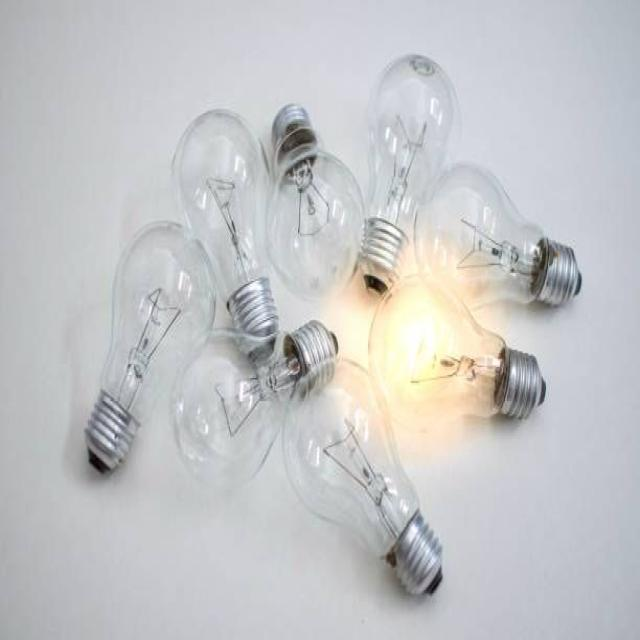electronic: (83, 52, 582, 598), (281, 356, 444, 598), (82, 218, 216, 475), (366, 272, 546, 432), (358, 50, 461, 297), (412, 160, 581, 309), (263, 102, 365, 303), (170, 326, 282, 488), (169, 107, 271, 282)
